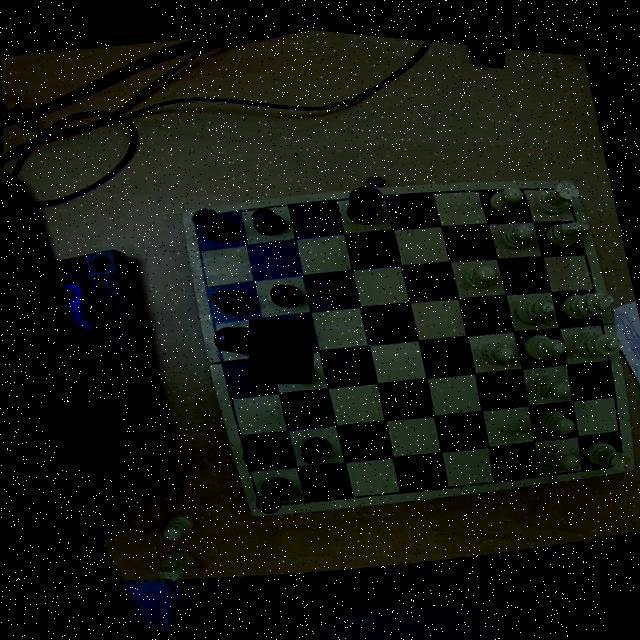chess-table-corners: (182, 203, 210, 230), (243, 485, 270, 511), (602, 442, 633, 464), (554, 169, 578, 193)
